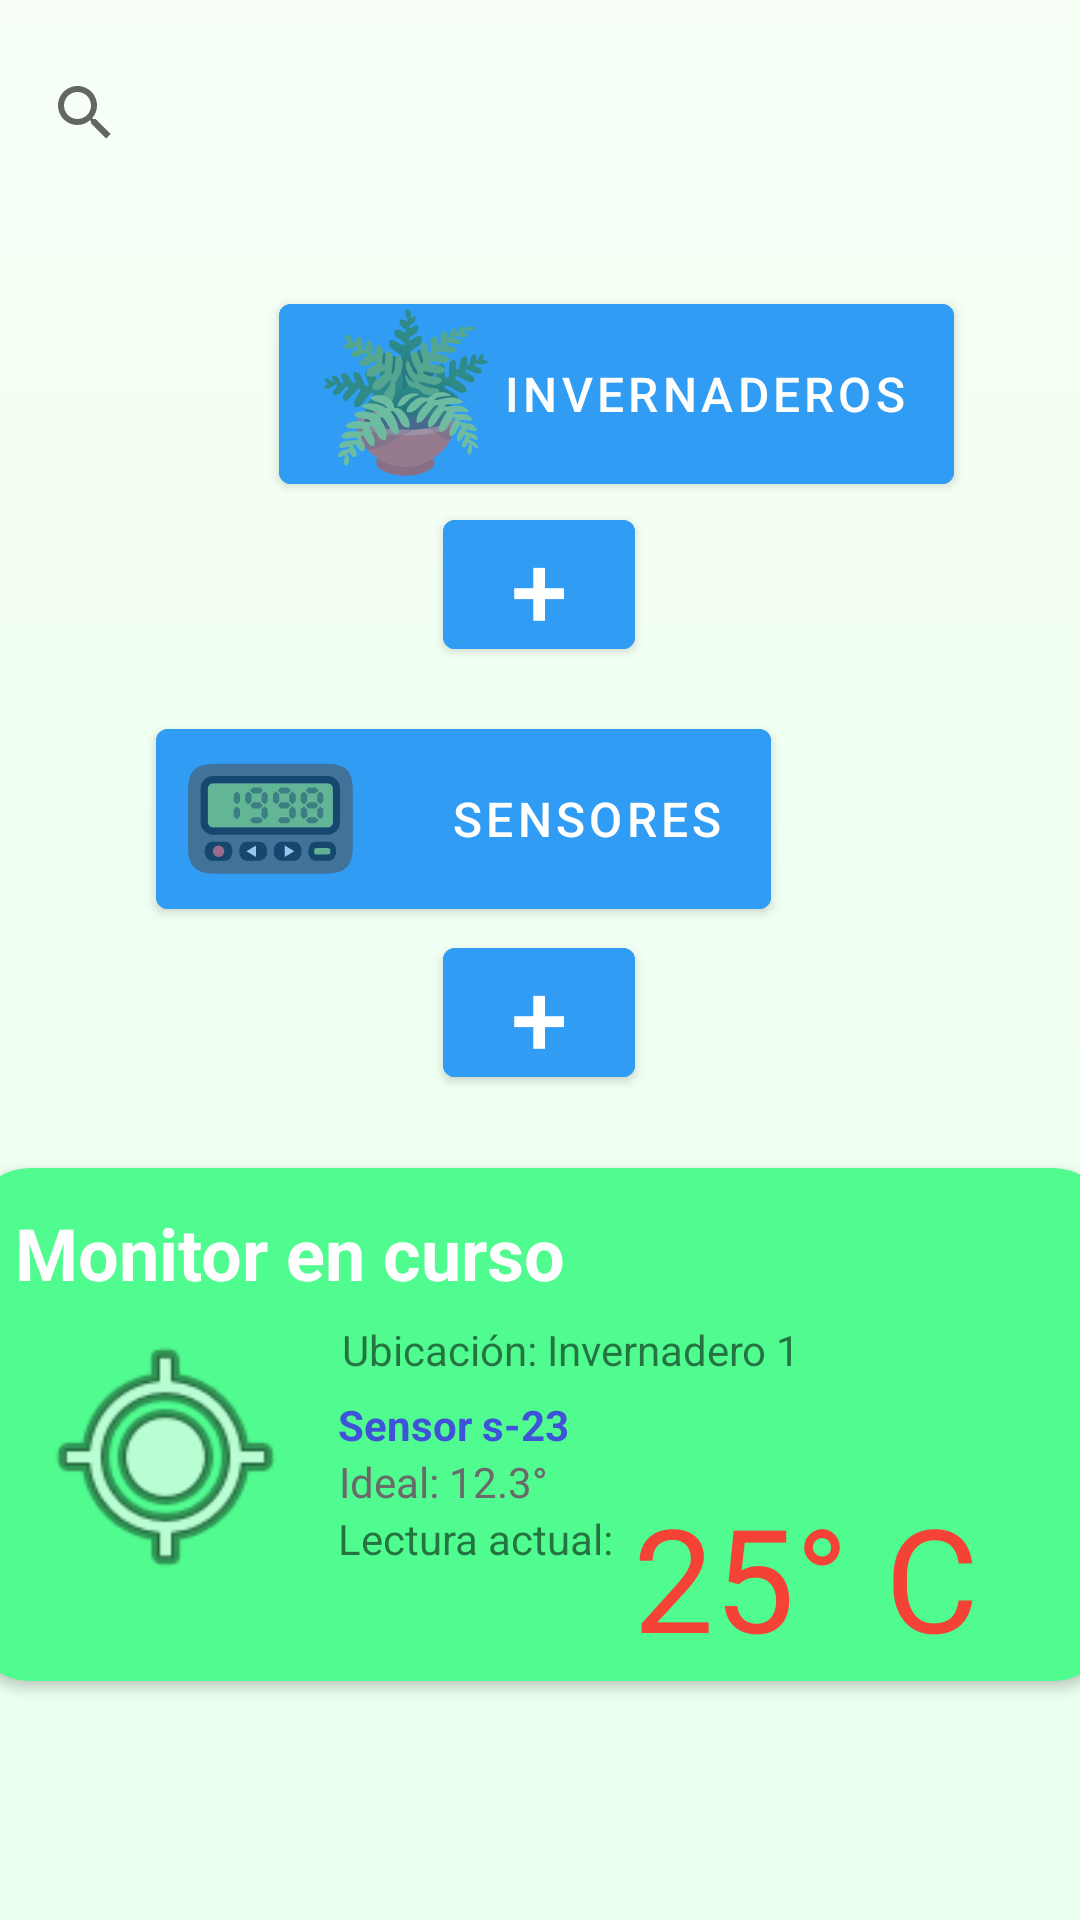

Icons on this 1080px×1920px Android screen, each with its box as (x1, y1, x2, y2):
mylocation: (57, 1349, 274, 1565)
